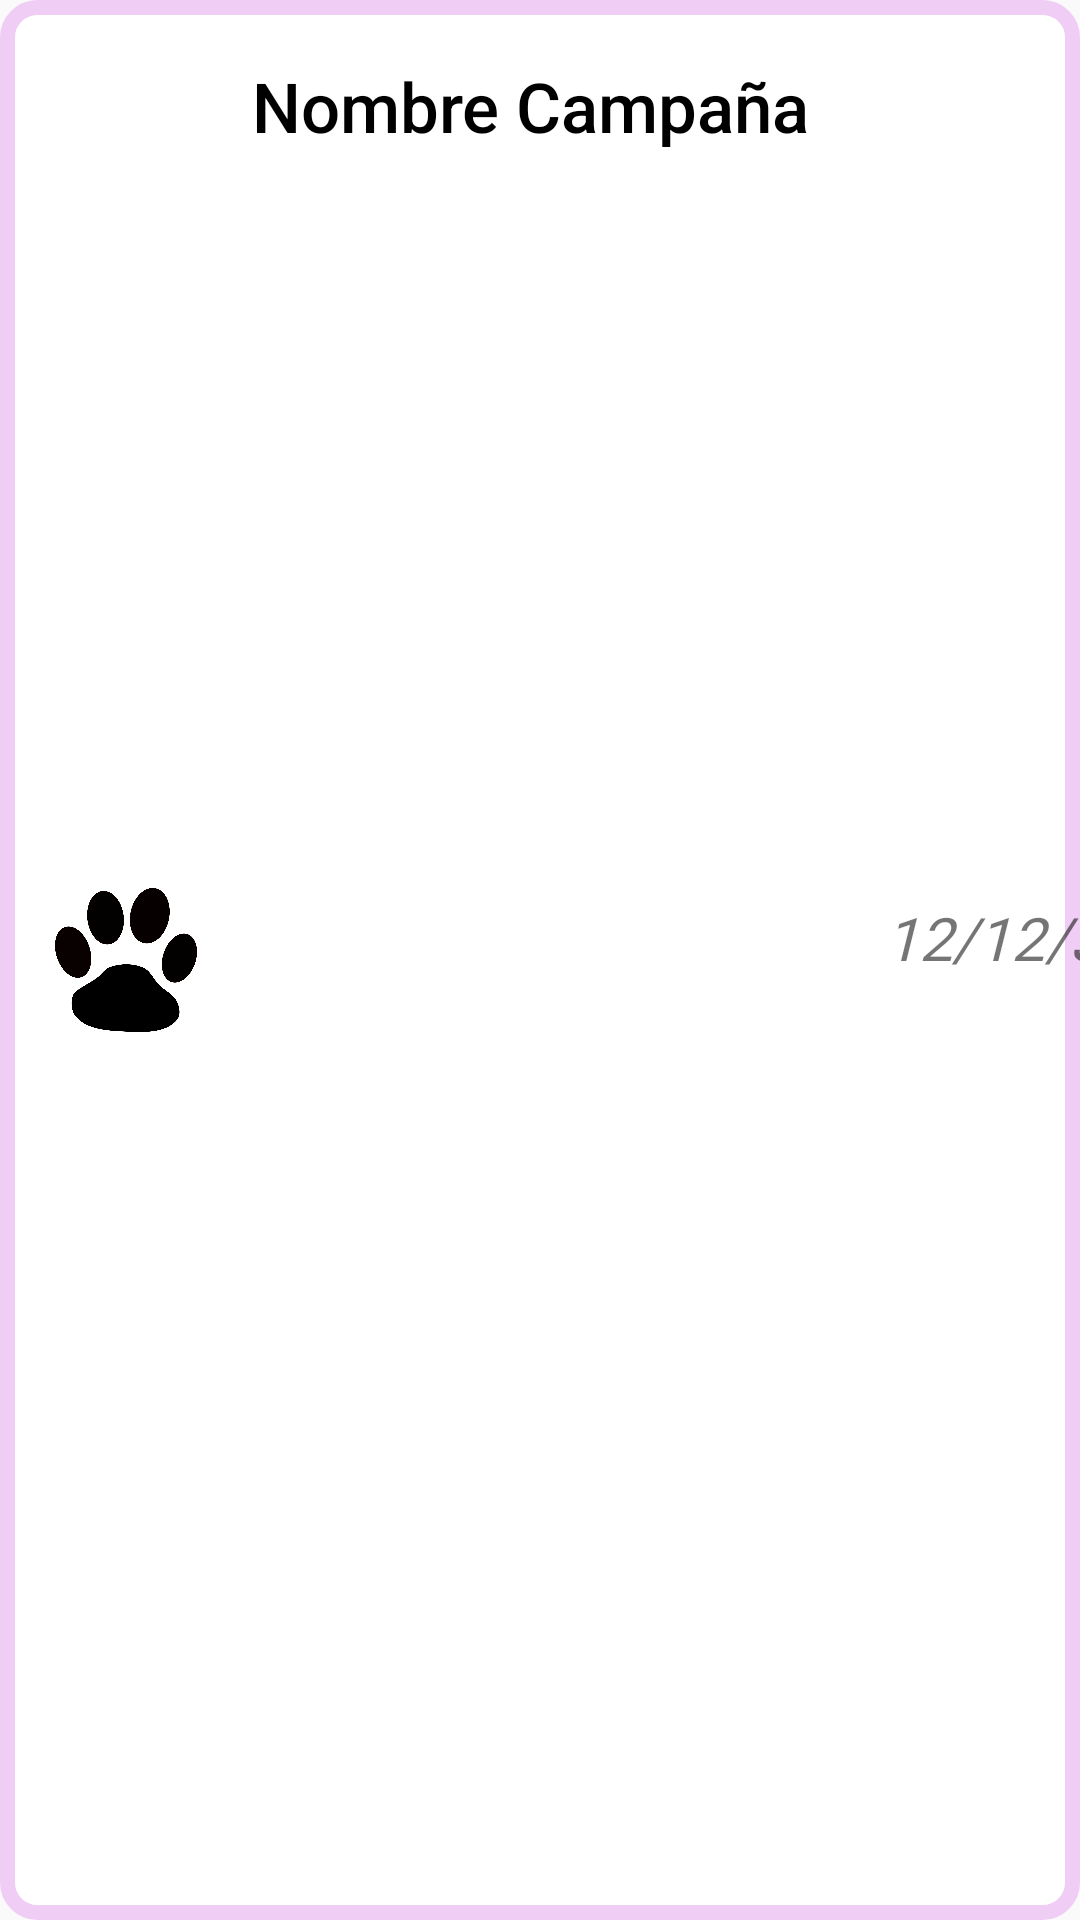

Icon bounding boxes for this 1080x1920 phone screenshot, format bbox=(x1, y1, x2, y2):
huella: bbox=(55, 888, 197, 1032)
